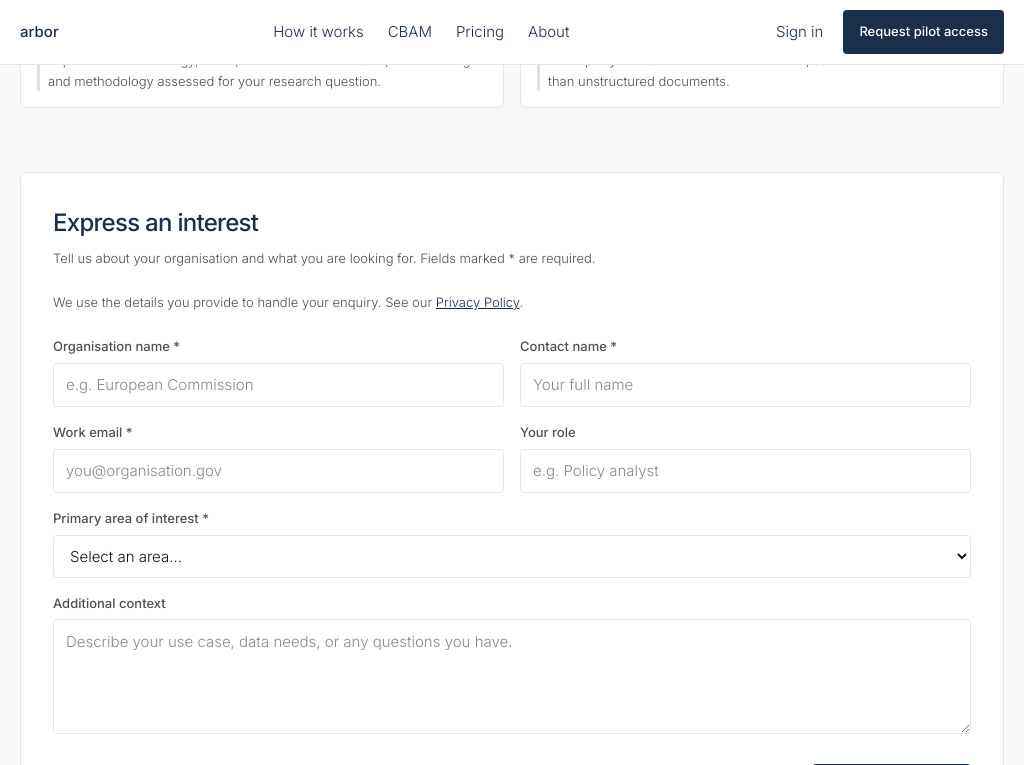
it: preserves input after a network failure, permits retry, and announces receipt
(page scrolled)
Type "Example Research" into the field labelled "Organisation name *" at [278, 385], box [53, 362, 504, 407]
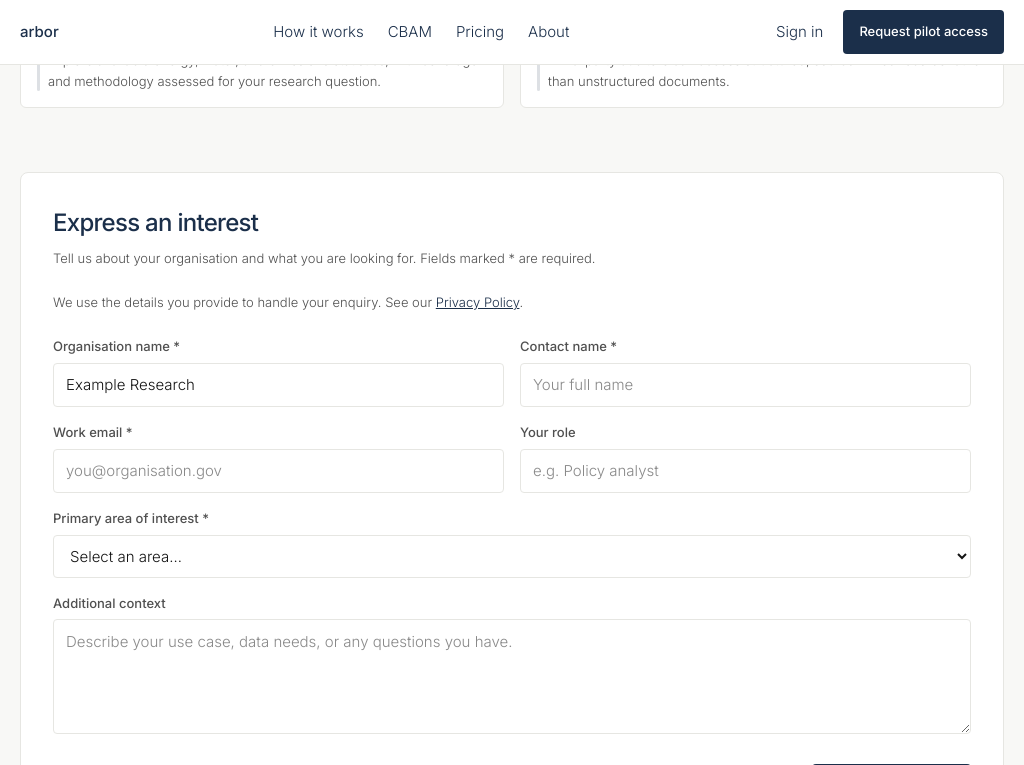
Type "Alex Example" into the field labelled "Contact name *" at [746, 385], box [520, 362, 971, 407]
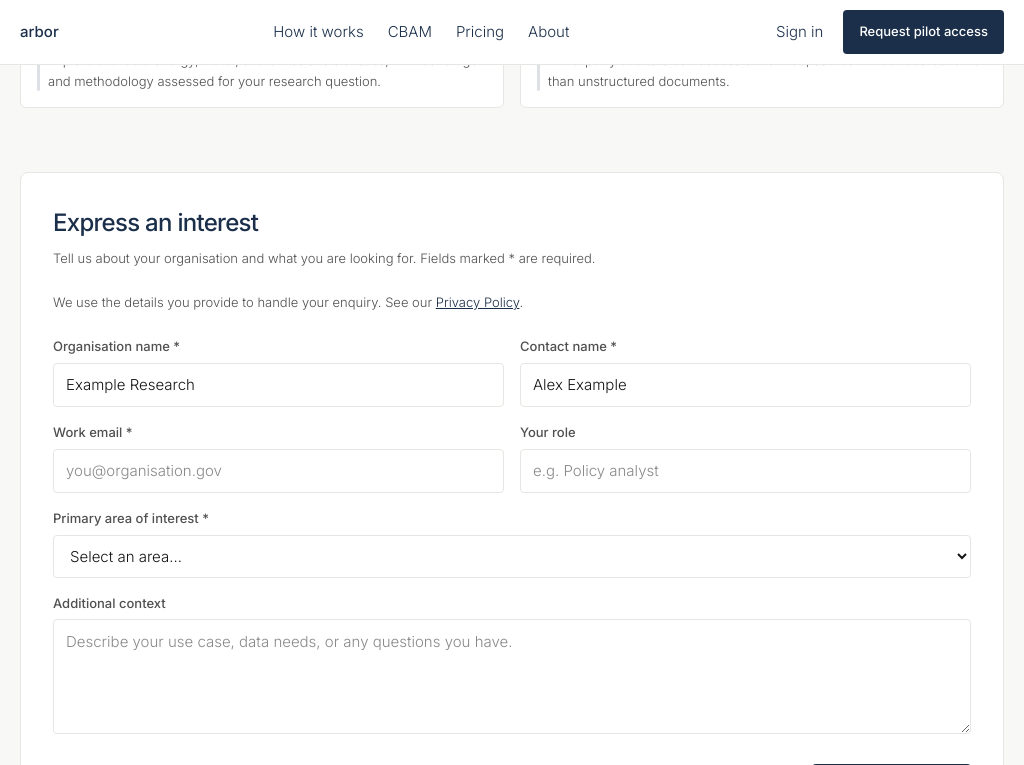
Type "alex@example.org" into the field labelled "Work email *" at [278, 471], box [53, 448, 504, 493]
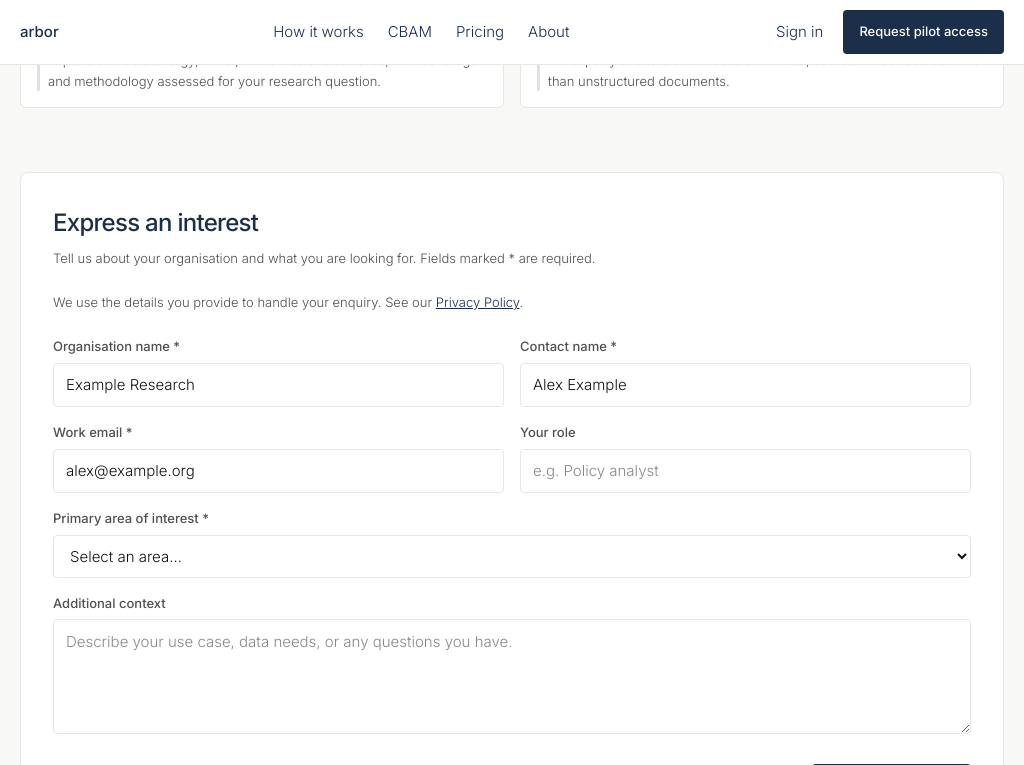
Select "Sector benchmark data" in the dropdown labelled "Primary area of interest *" at [512, 556], box [53, 534, 971, 578]
(page scrolled)
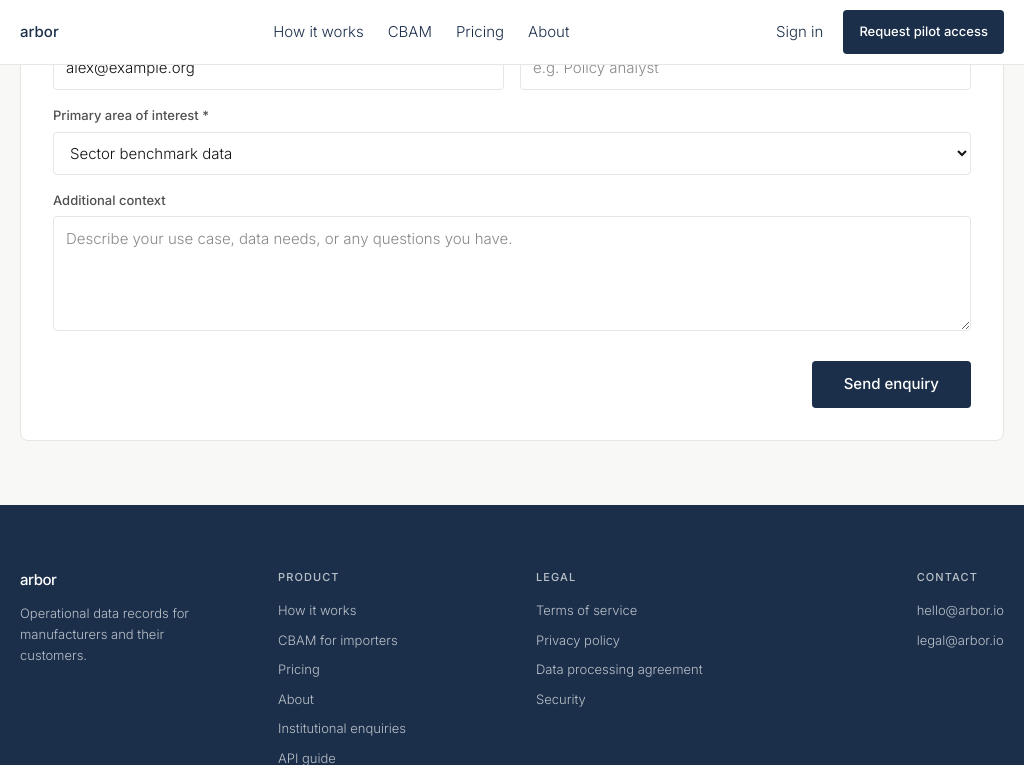
Click the button "Send enquiry" at [891, 384], box [812, 361, 971, 408]
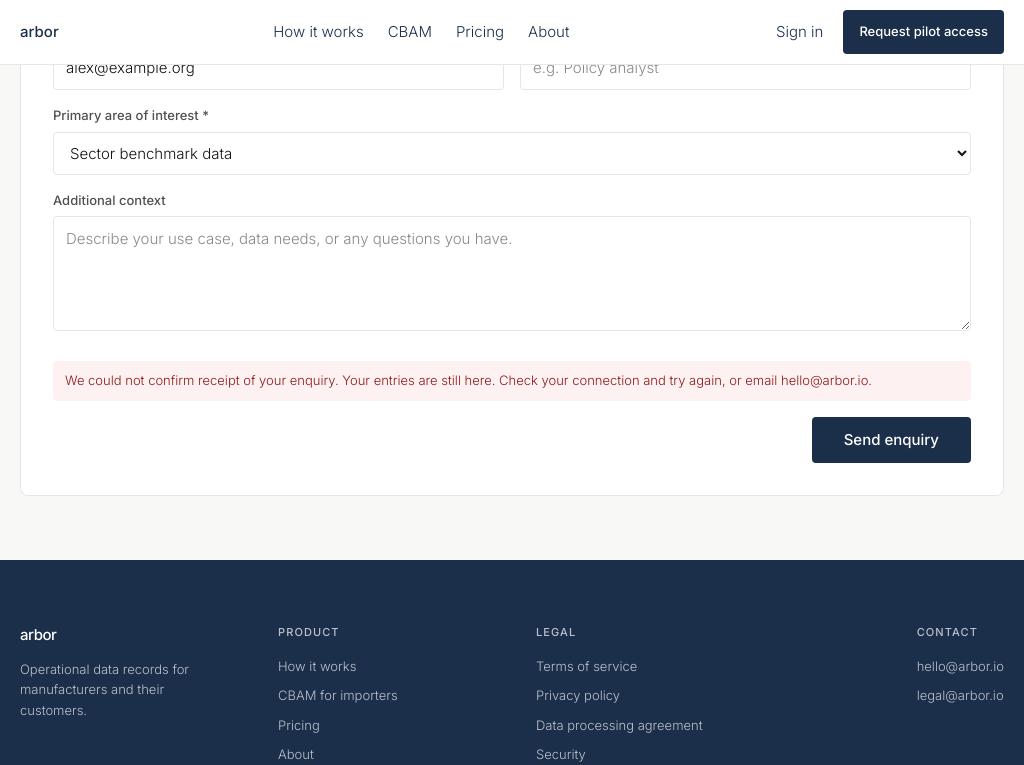
Check: the message shows "could not confirm receipt", box [65, 372, 872, 388]
Click the button "Send enquiry" at [891, 440], box [812, 416, 971, 463]
(page scrolled)
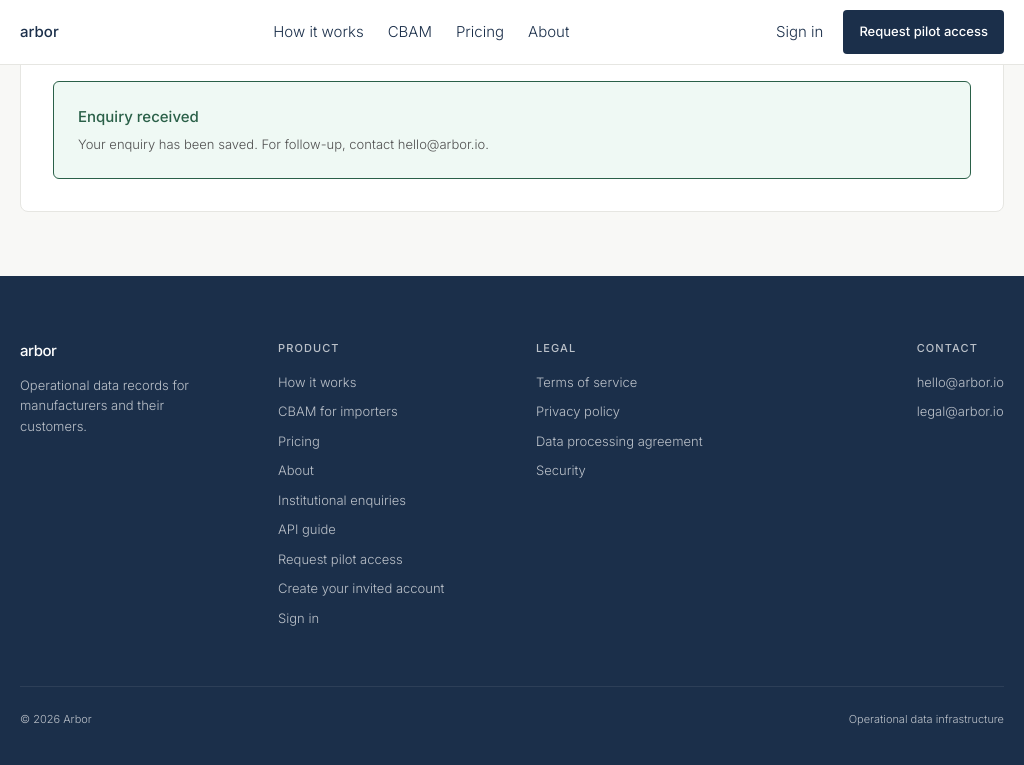
Check: the text "Enquiry received" is shown, box [78, 107, 199, 126]
Check: the message shows "Your enquiry has been saved", box [78, 136, 489, 152]
